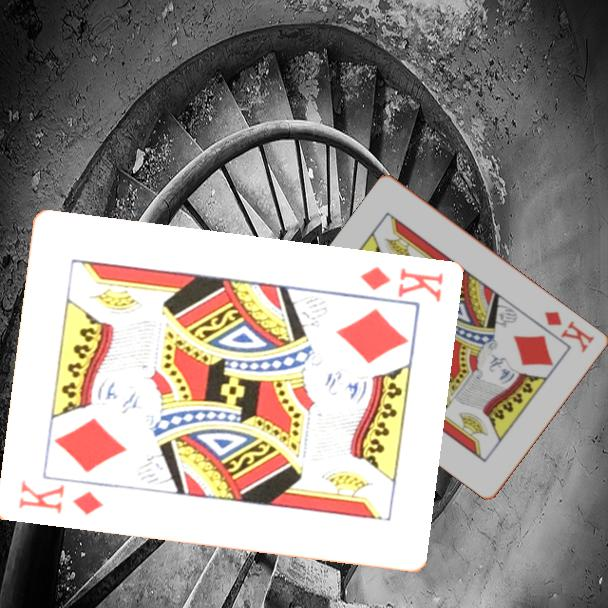d13: (356, 263, 446, 306), (14, 477, 106, 519), (541, 308, 598, 356)
